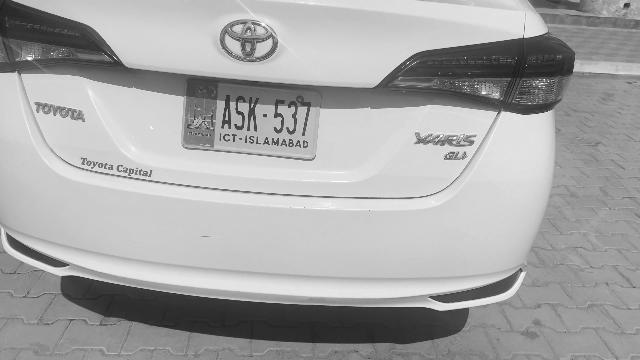Number: (217, 90, 316, 136)
